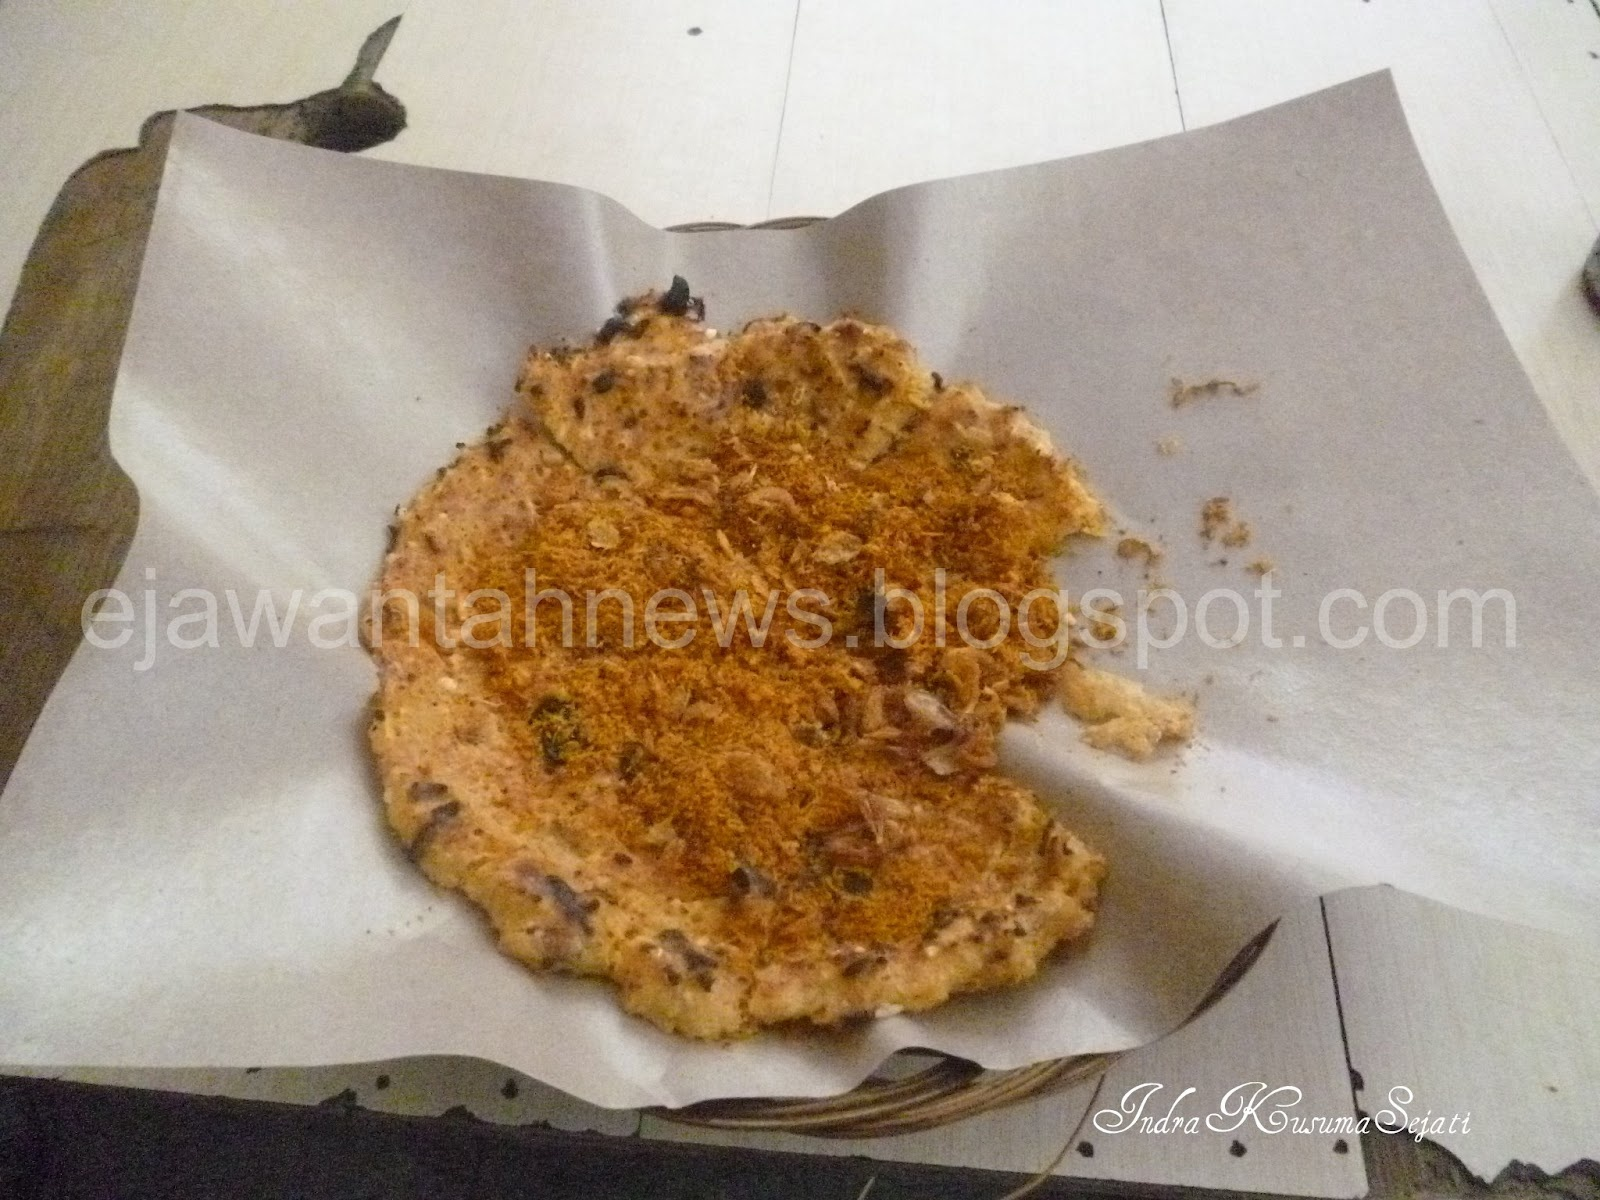kerak_telor: (359, 299, 1107, 1030)
